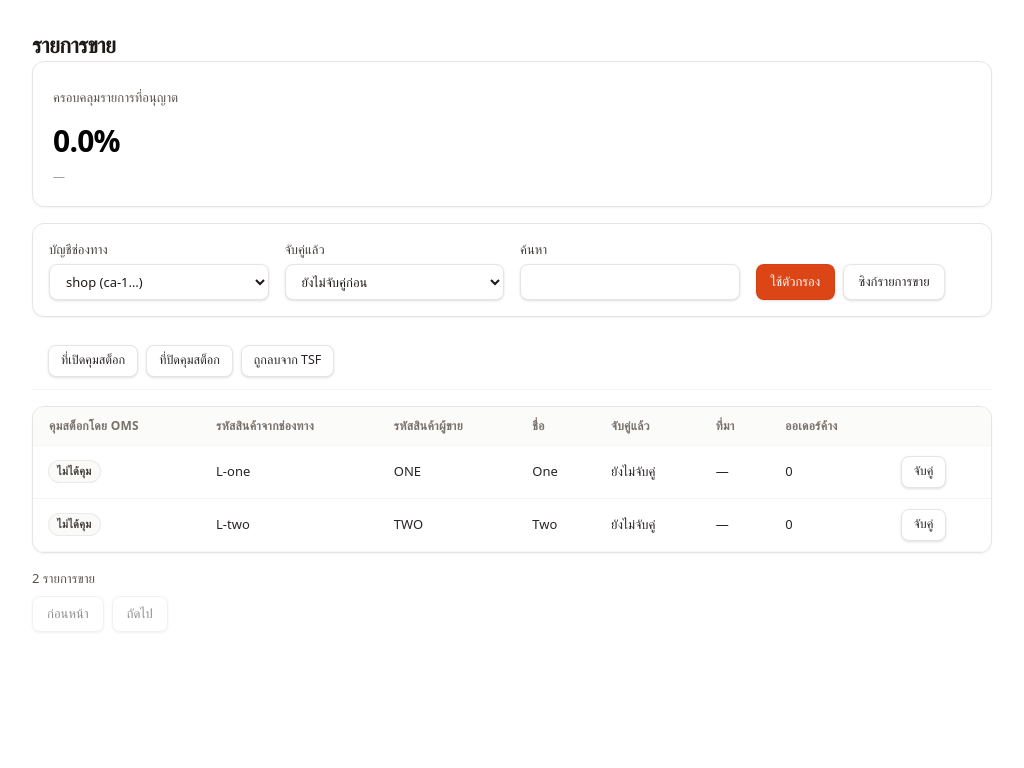
ListingsPage › clears SKU picker when canceling or switching listings
expect the text "L-one" is shown: met, box left=200, top=445, right=378, bottom=498
Click the button "จับคู่" in the row of "L-one" at (923,472), box left=901, top=456, right=946, bottom=488
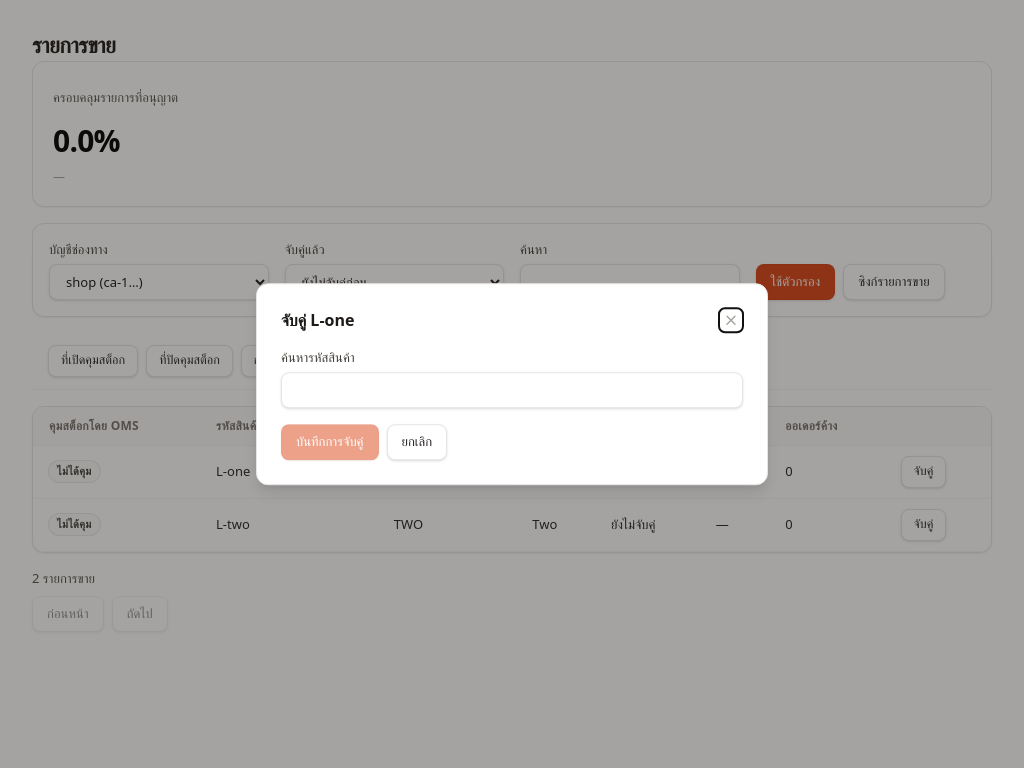
Type "DEMO" into the field labelled "ค้นหารหัสสินค้า" at (512,390), box left=281, top=372, right=743, bottom=408
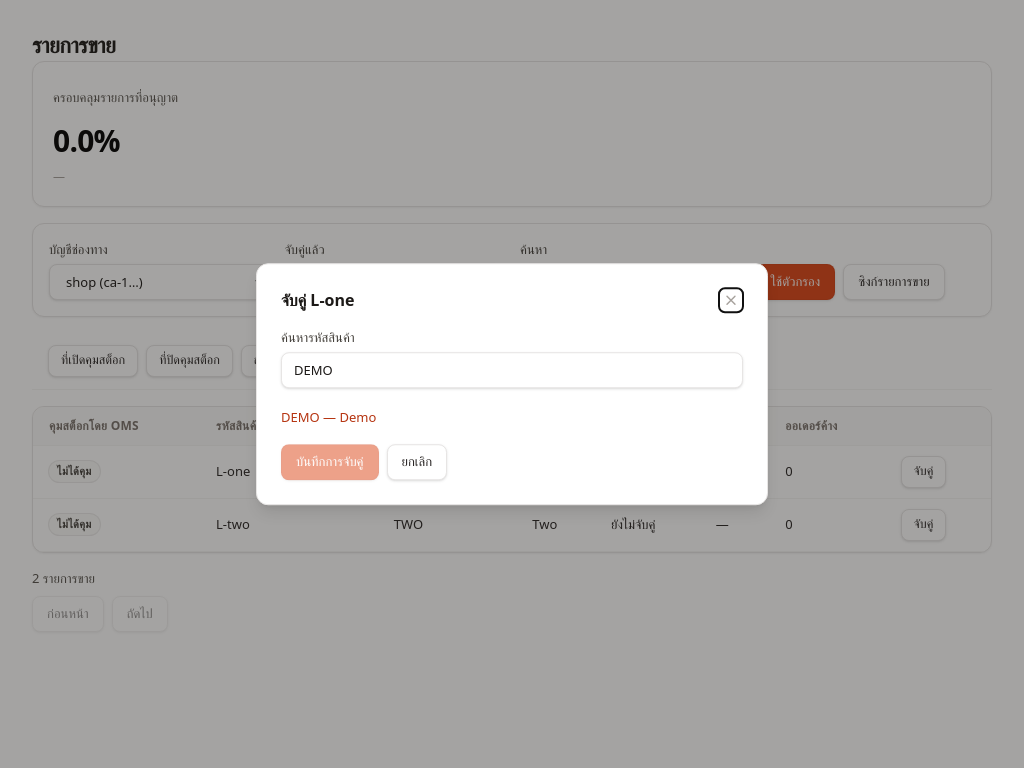
expect the button "DEMO — Demo" is shown: met
Click the button "DEMO — Demo" at (329,418), box left=281, top=408, right=376, bottom=427
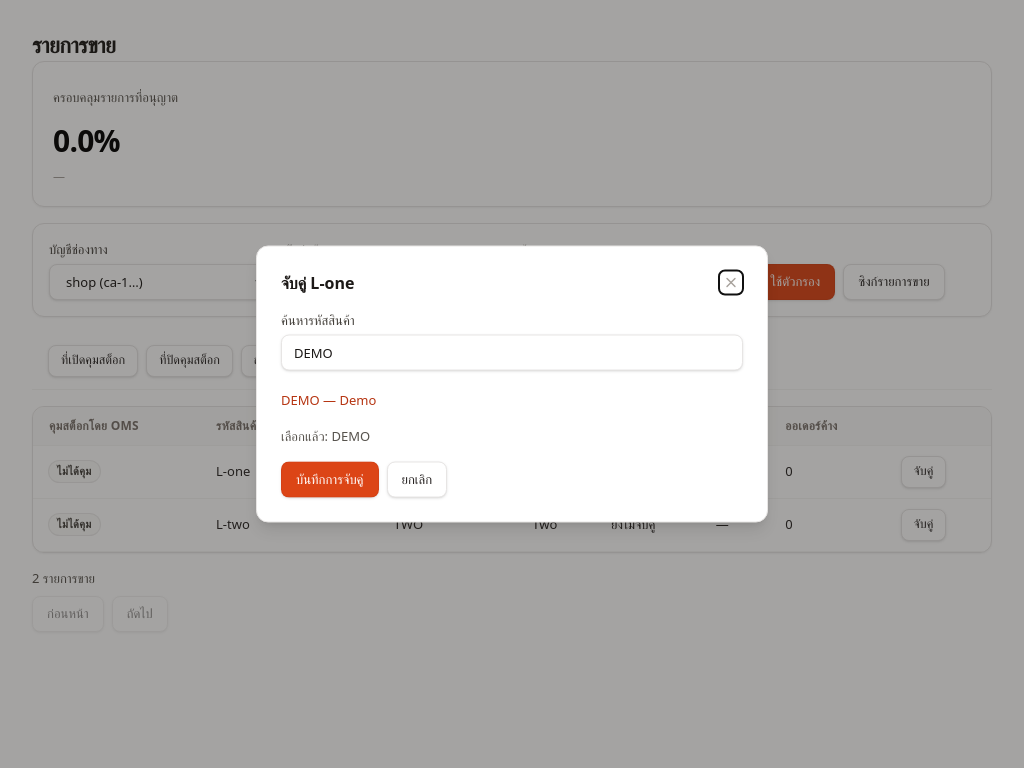
expect the text "เลือกแล้ว: DEMO" is shown: met, box left=281, top=426, right=370, bottom=444
Click the button "ยกเลิก" at (417,480), box left=386, top=462, right=447, bottom=498
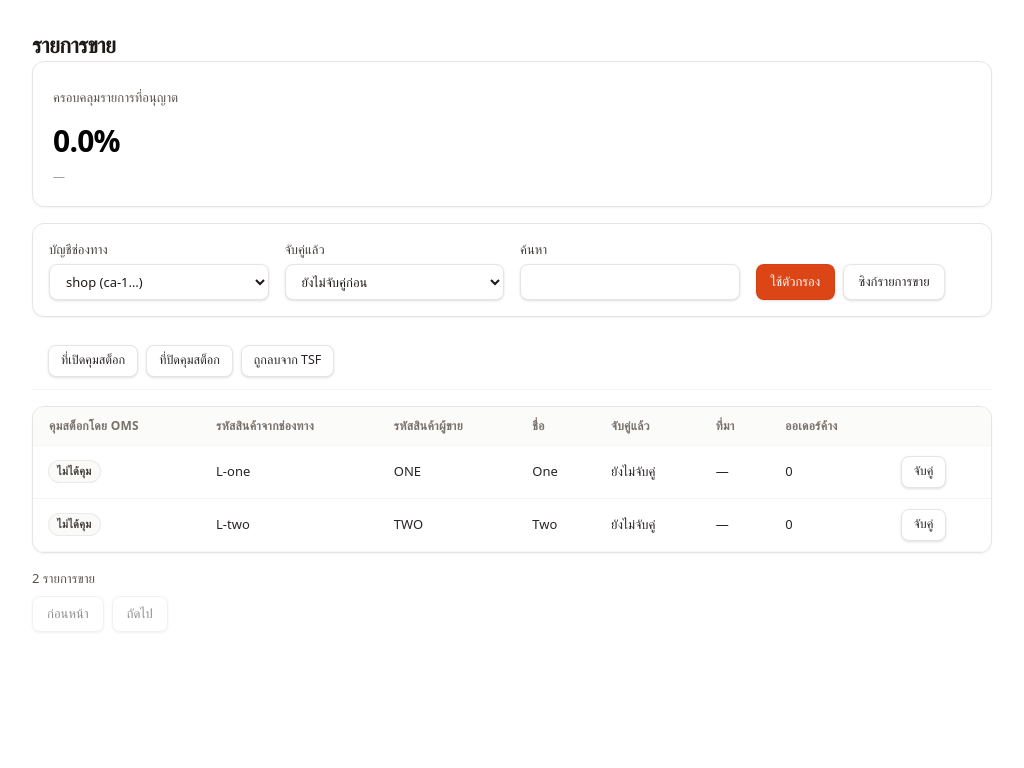
expect the text "เลือกแล้ว: DEMO" is gone: met
Click the button "จับคู่" in the row of "L-two" at (923,524), box left=901, top=508, right=946, bottom=540
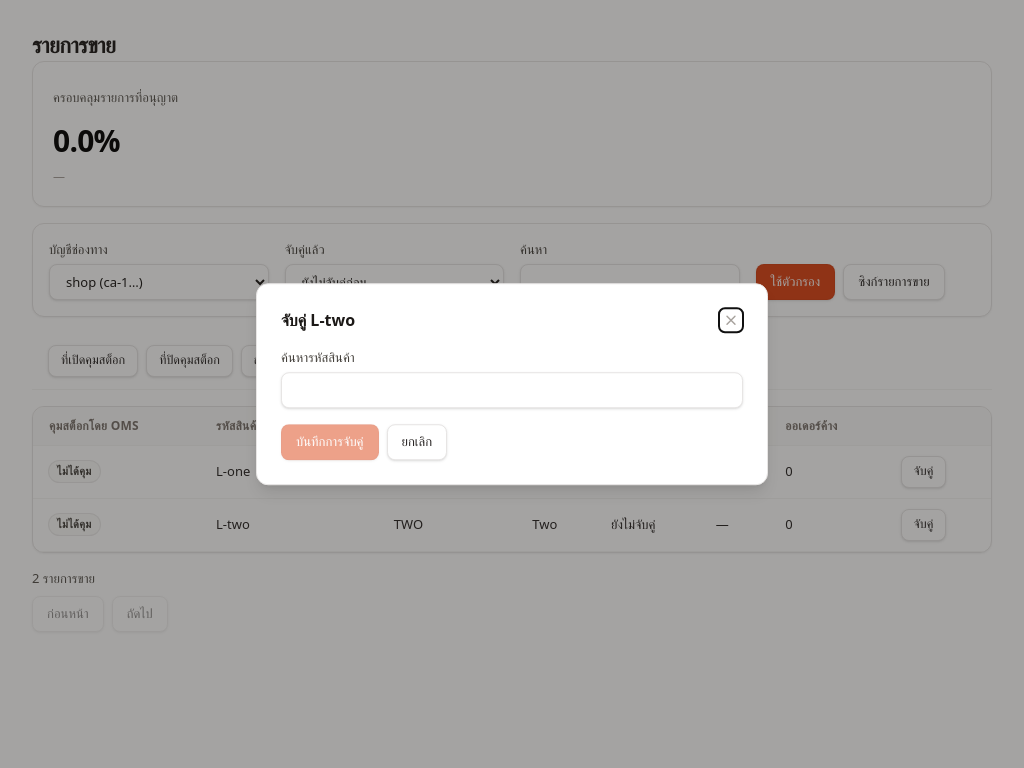
expect the text "เลือกแล้ว: DEMO" is not shown: met
expect the heading "จับคู่ L-two" is shown: met, box left=281, top=308, right=355, bottom=332
